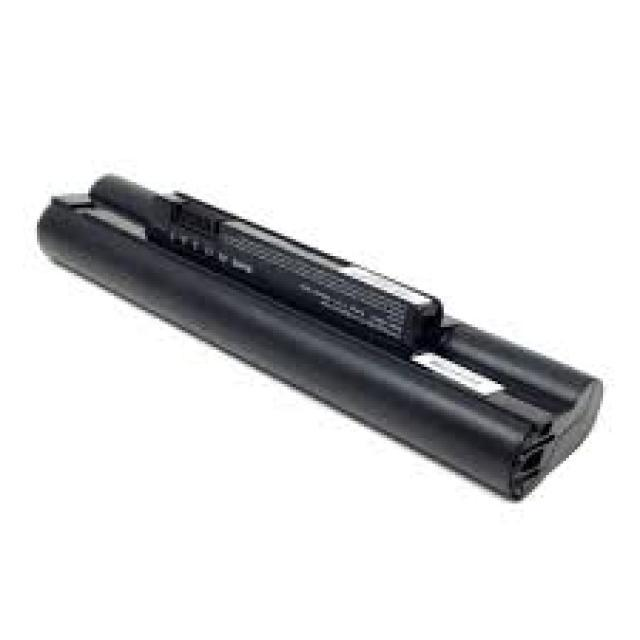Battery: (20, 127, 637, 502)
